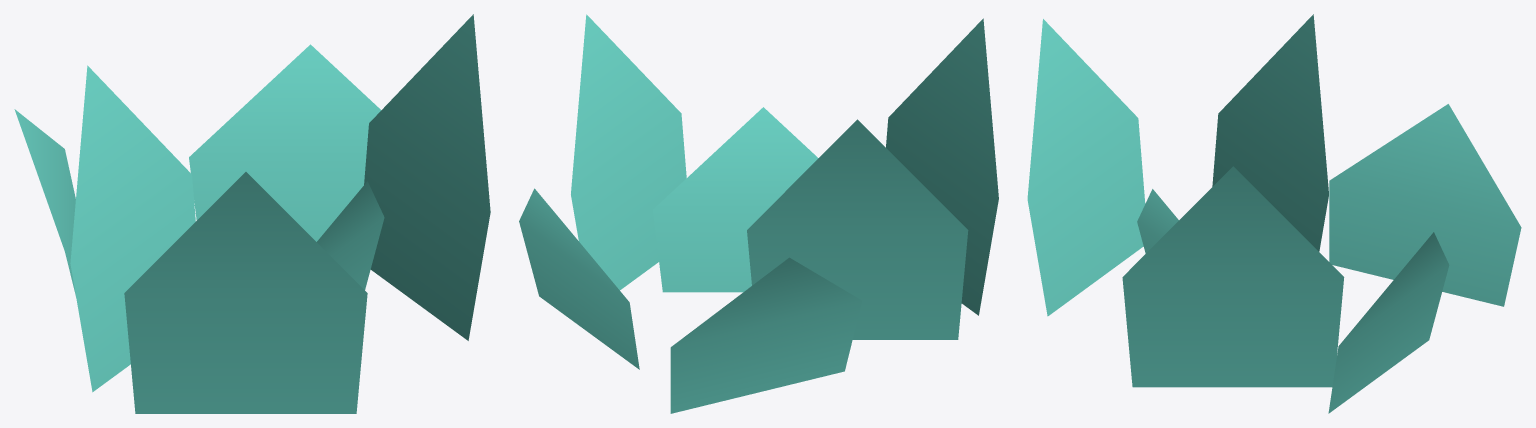
The model's file is grass_leafs.gltf.
3 renders of one model, left to right at view 1: azimuth 30°, elevation 25°; view 2: azimuth 150°, elevation 25°; view 3: azimuth 270°, elevation 25°, orthographic. The views are drawn at different scales.
Parts seen in each view (by area): view 1: grass_leafs; view 2: grass_leafs; view 3: grass_leafs.
Part boxes in pixels (<box>): grass_leafs: <box>14,14,490,413</box>; grass_leafs: <box>519,14,998,413</box>; grass_leafs: <box>1027,14,1521,413</box>.
Size of the model in its own units: 0.2345 by 0.1425 by 0.2573.
